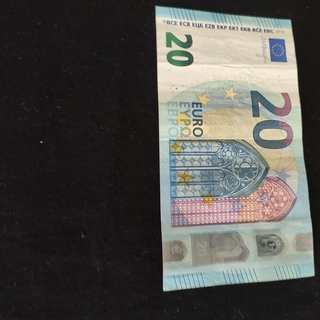20EUROFront: (152, 4, 316, 292)
